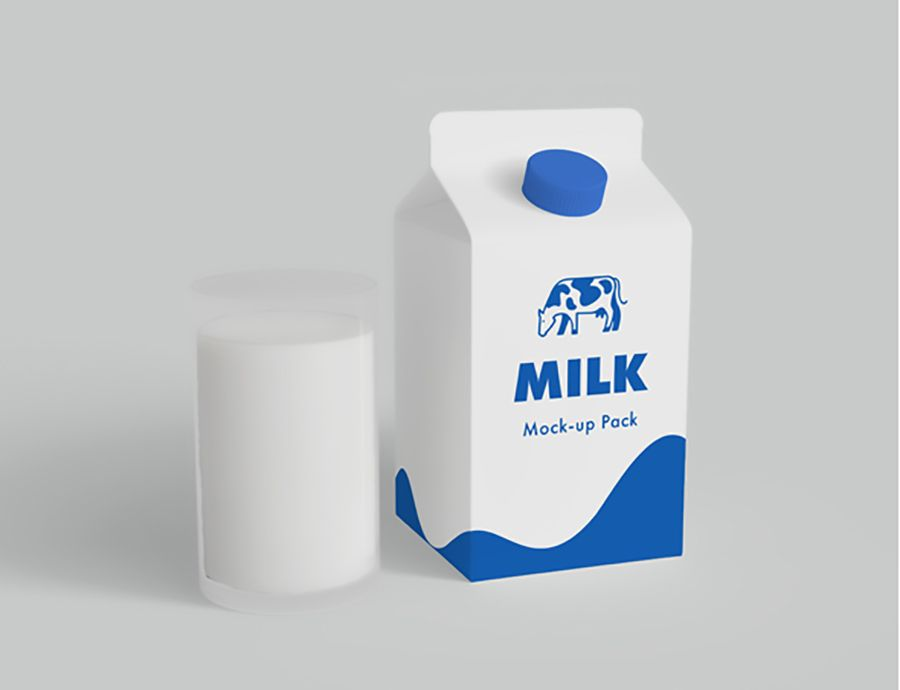Carton: (389, 107, 689, 582)
